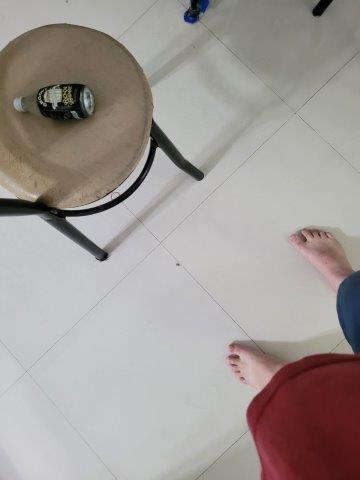botolkaca: (14, 83, 94, 118)
